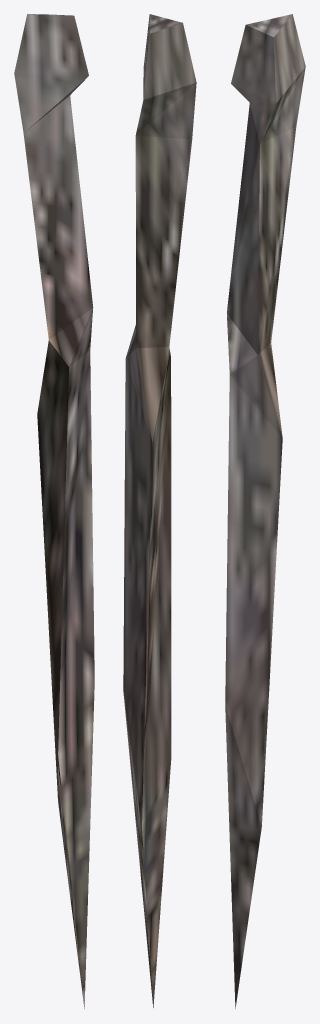
Rendered from m_staff.dae.
3 renders of one model, left to right at view 1: azimuth 90°, elevation 25°; view 2: azimuth 210°, elevation 25°; view 3: azimuth 270°, elevation 25°, orthographic.
Visible parts, largest first — view 1: Box01; view 2: Box01; view 3: Box01.
Boxes of the visible parts, x1=… form: Box01: x1=14, y1=14, x2=94, y2=1008; Box01: x1=123, y1=14, x2=196, y2=1007; Box01: x1=225, y1=14, x2=305, y2=1008.
Bounding box in the file's own units: 0.1214 × 0.2123 × 2.9.
